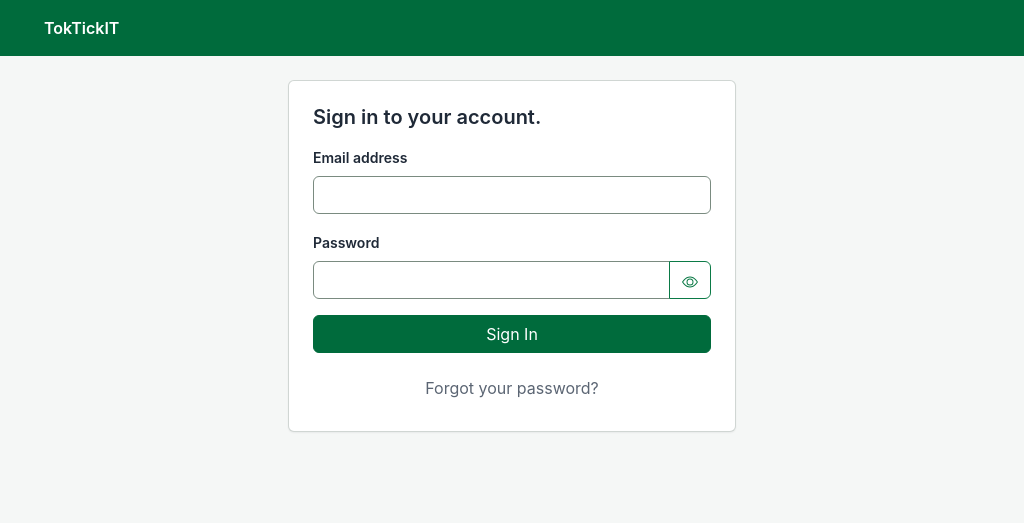
it: LoginPage › shows the generic invalid-credentials message and clears the password field
Type "nobody@toktickit.local" into the field labelled "Email address" at x=512, y=195, box left=313, top=176, right=711, bottom=214
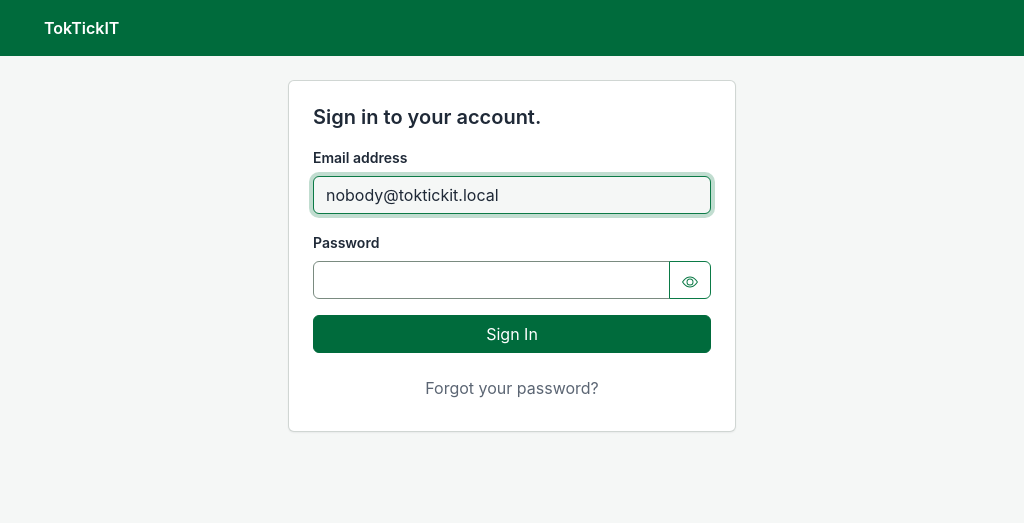
Type "Whatever1!" into the password field labelled "Password" at x=492, y=280, box left=313, top=261, right=670, bottom=299
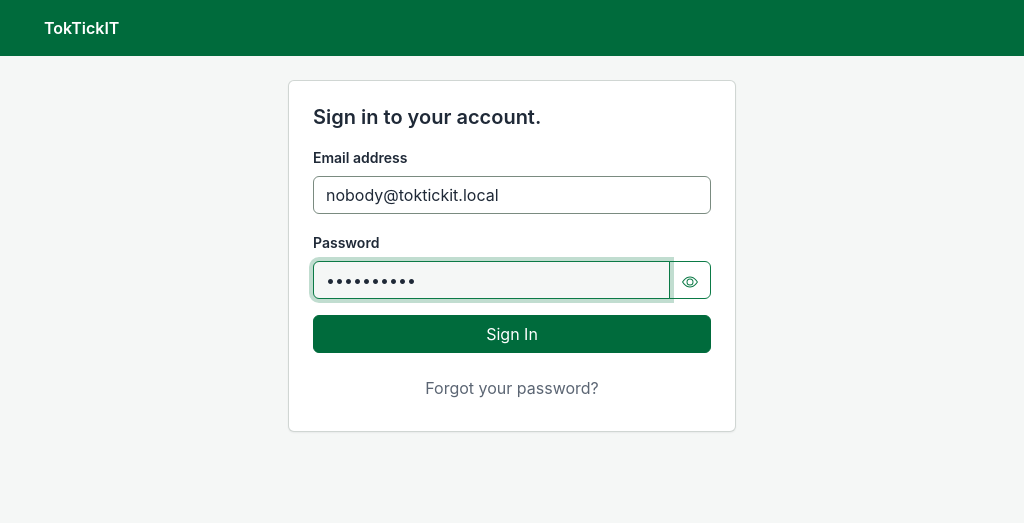
Click the button "Sign In" at x=512, y=334, box left=313, top=315, right=711, bottom=353
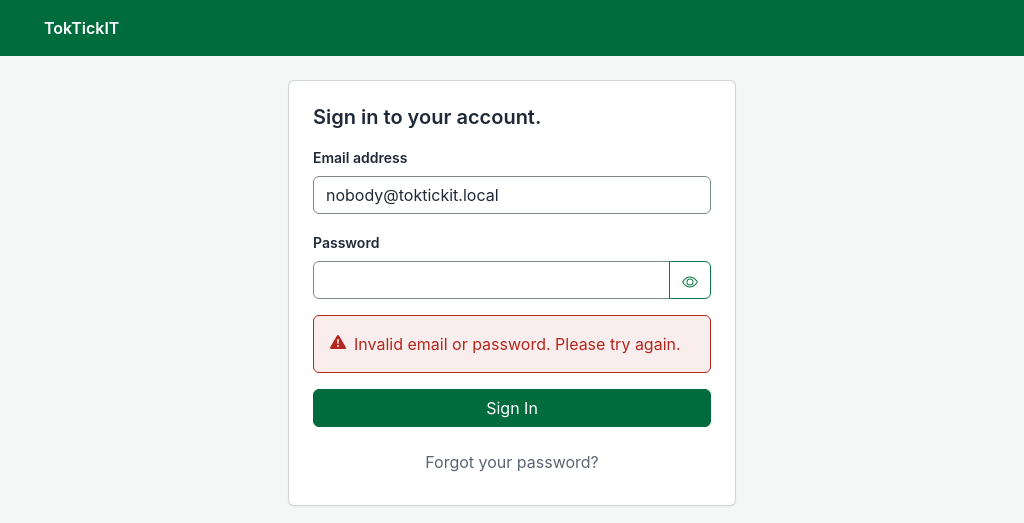
Now the message shows "Invalid email or password", box left=354, top=334, right=681, bottom=354
Now the password field labelled "Password" is empty, box left=313, top=261, right=670, bottom=299
